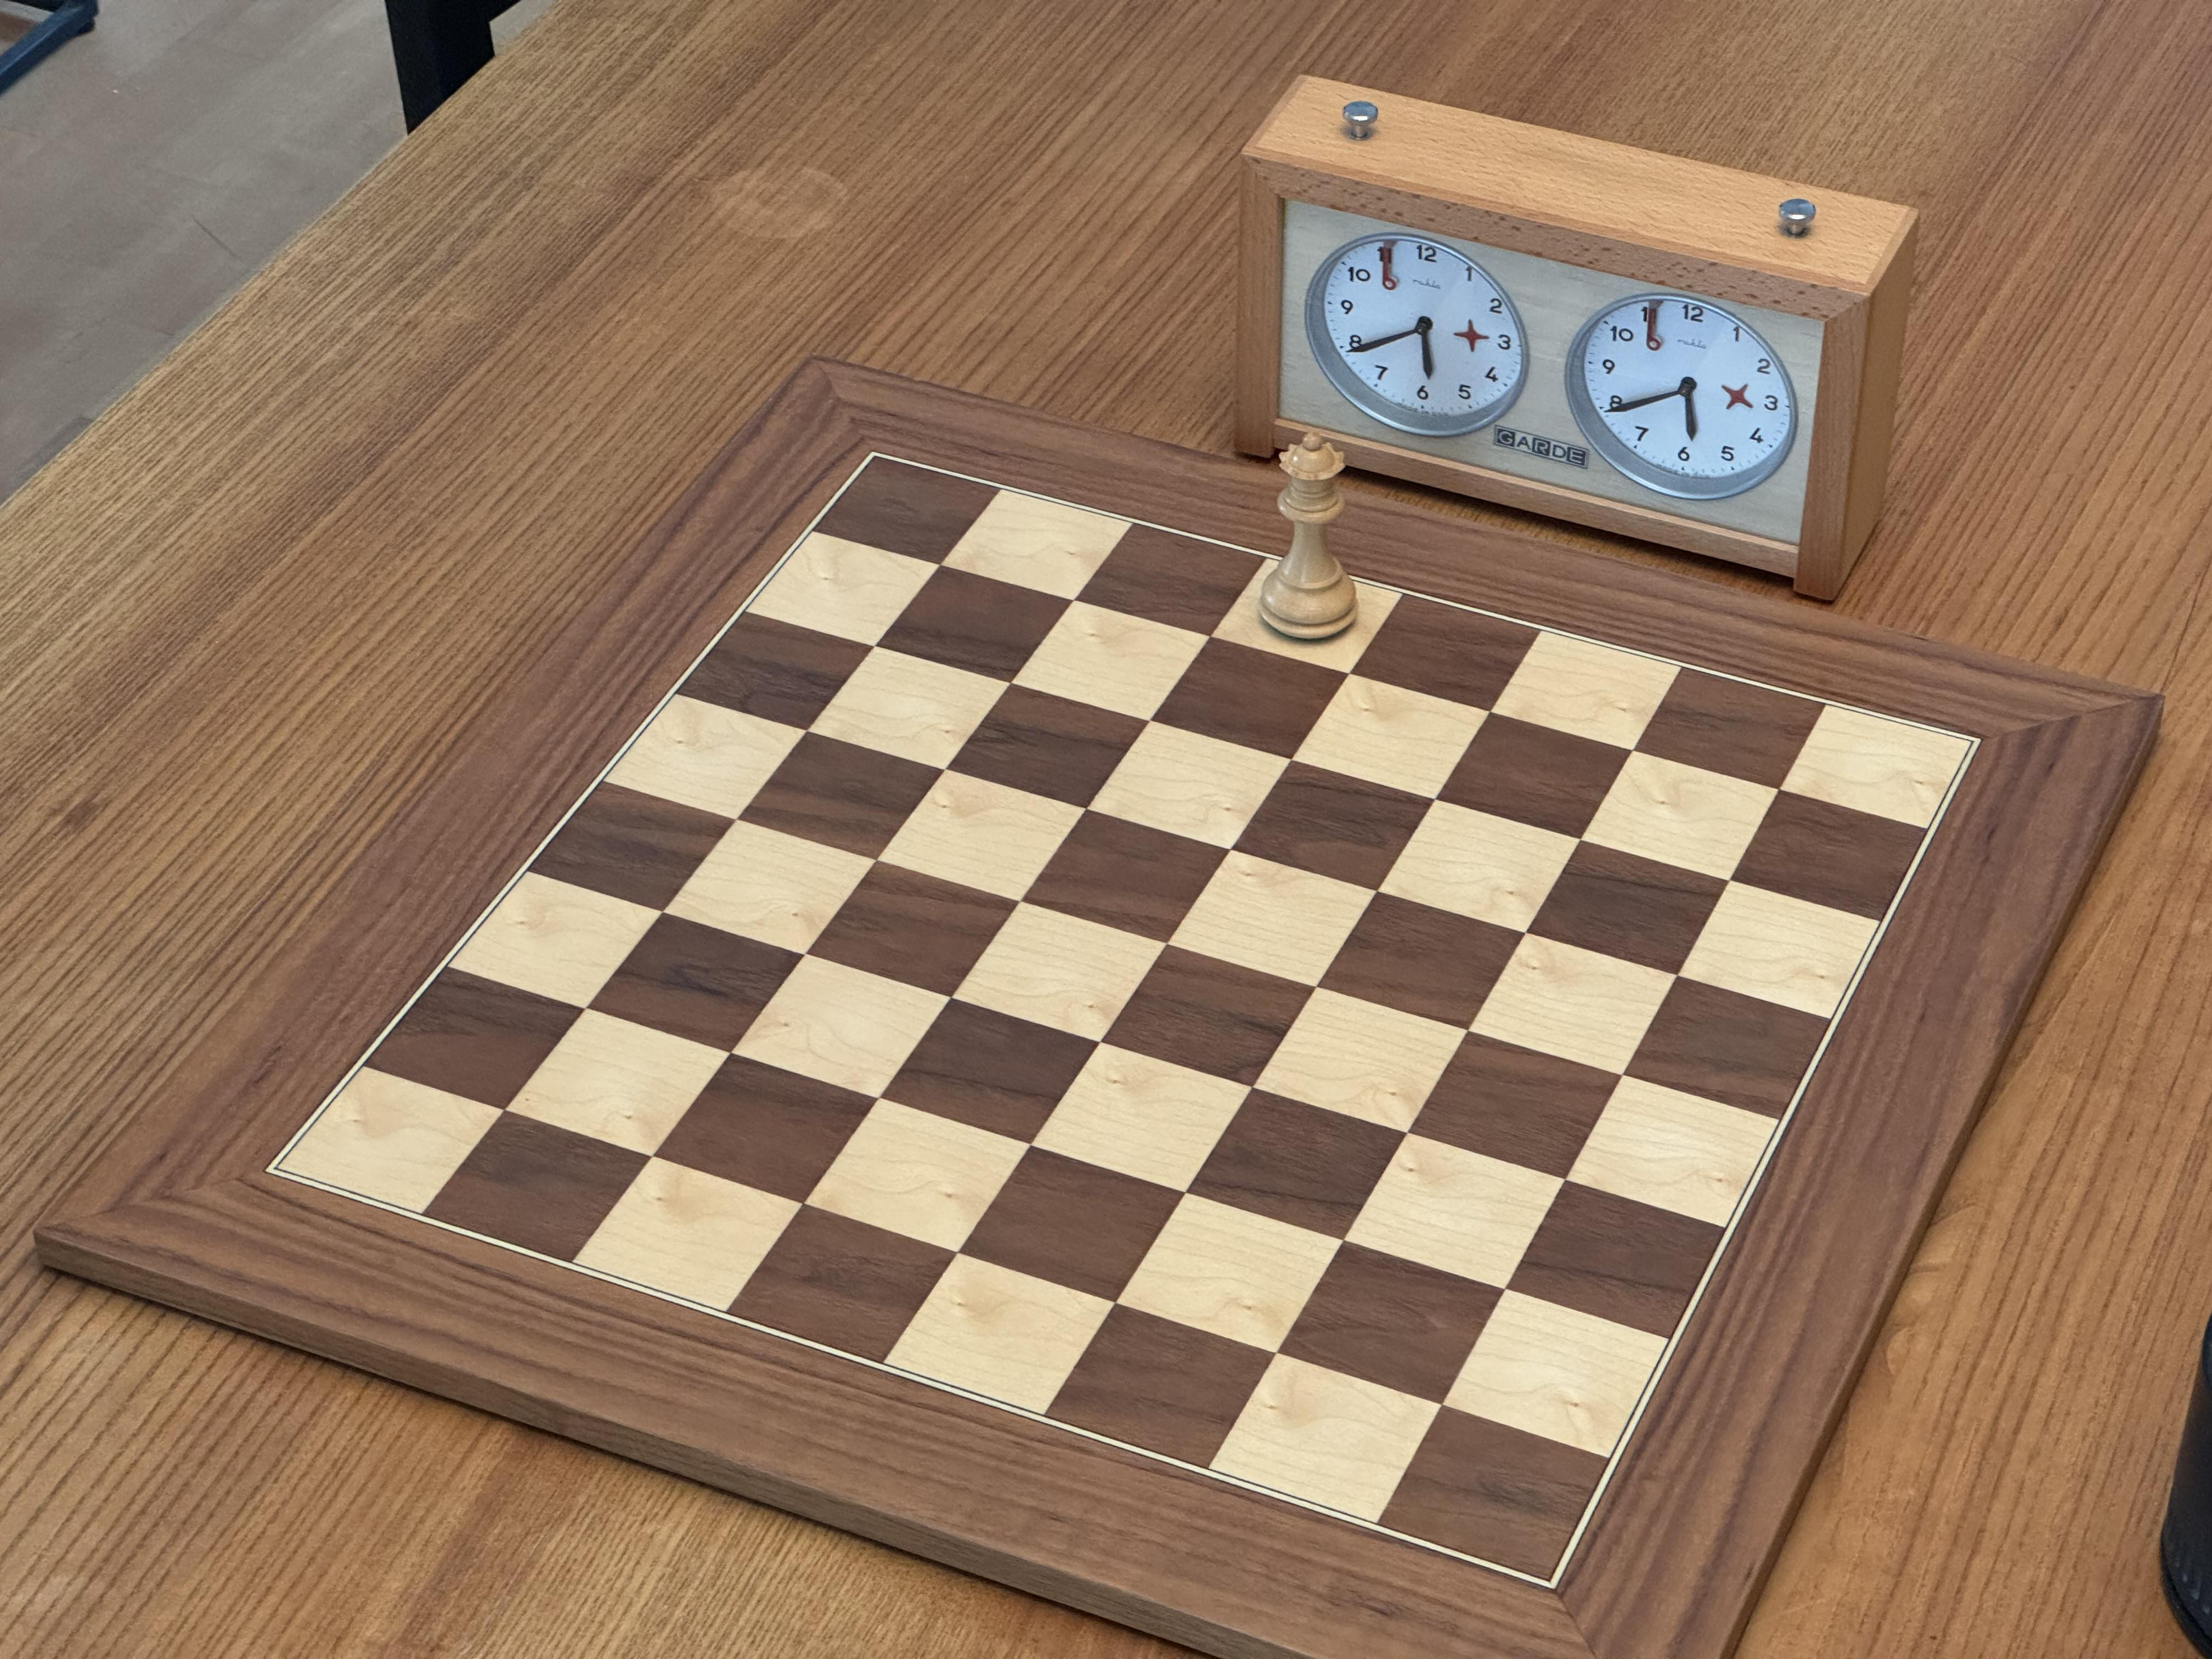White Queen: (1252, 427, 1364, 648)
